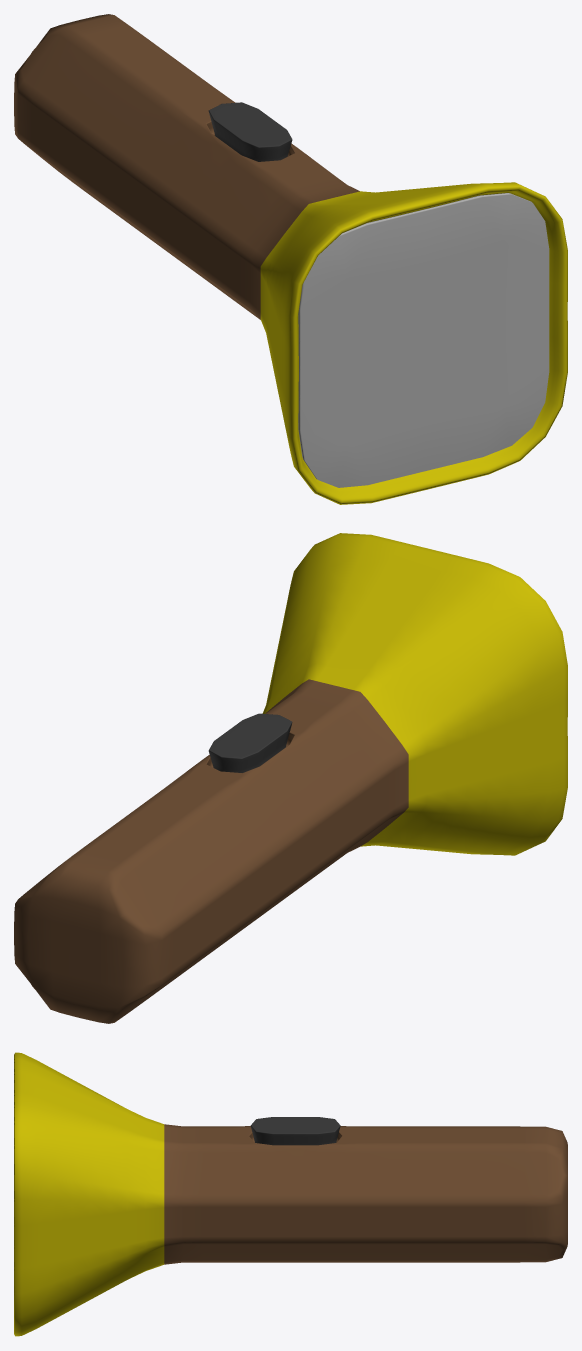
The model's file is flashlight_low.fbx.
3 views of the same model, one above another, from view 1: azimuth 30°, elevation 25°; view 2: azimuth 150°, elevation 25°; view 3: azimuth 270°, elevation 25° (orthographic). The views are drawn at different scales.
Parts seen in each view (by area): view 1: handle_low, flashglass_low; view 2: handle_low; view 3: handle_low.
Boxes of the visible parts, left/top/right/bottom form: handle_low: left=14, top=14, right=567, bottom=504; flashglass_low: left=298, top=193, right=549, bottom=487; handle_low: left=14, top=533, right=567, bottom=1023; handle_low: left=14, top=1052, right=567, bottom=1336.
Size of the model in its own units: 1.92 by 1.92 by 4.28.
